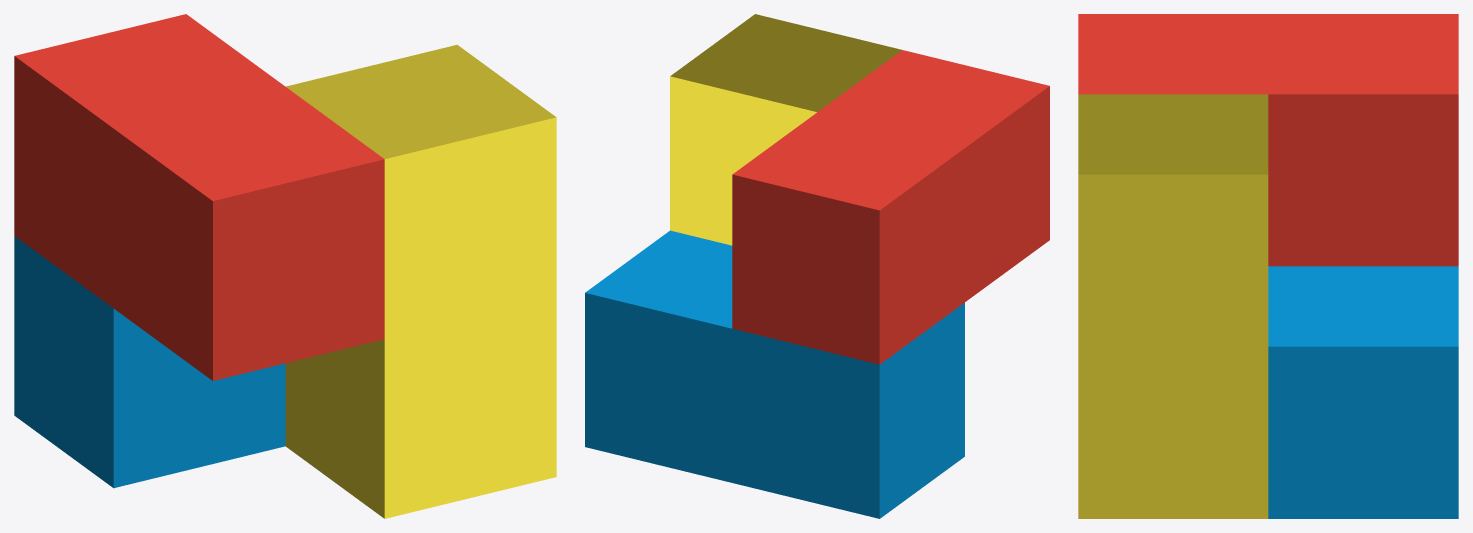
Rendered from blocks.glb.
3 views of the same model, side by side, from view 1: azimuth 30°, elevation 25°; view 2: azimuth 150°, elevation 25°; view 3: azimuth 270°, elevation 25° (orthographic). The views are drawn at different scales.
Parts seen in each view (by area): view 1: Node; view 2: Node; view 3: Node.
Boxes of the visible parts, bbox=[...] form: Node: bbox=[14, 14, 556, 518]; Node: bbox=[585, 14, 1049, 518]; Node: bbox=[1078, 14, 1458, 518].
Size of the model in its own units: 0.16 by 0.16 by 0.16.
